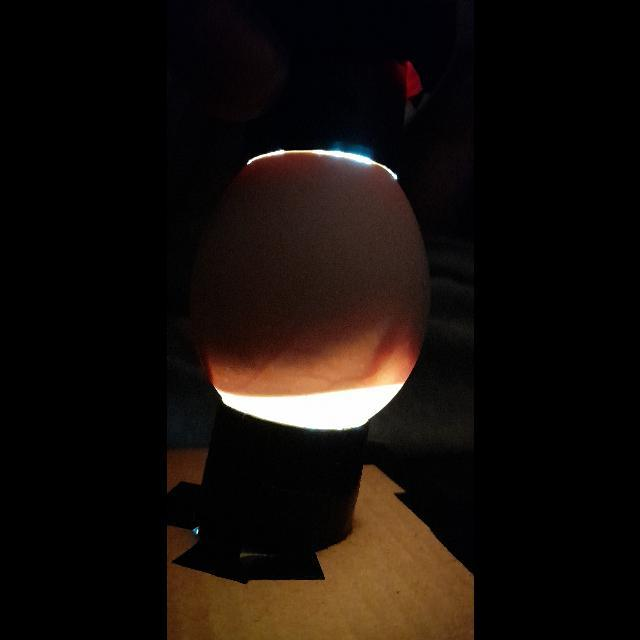Fertile: (196, 150, 420, 428)
